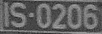0: (35, 2, 52, 30), (67, 4, 82, 30)
2: (51, 3, 68, 30)
6: (83, 3, 98, 30)
I: (2, 1, 11, 29)
S: (10, 1, 26, 29)
